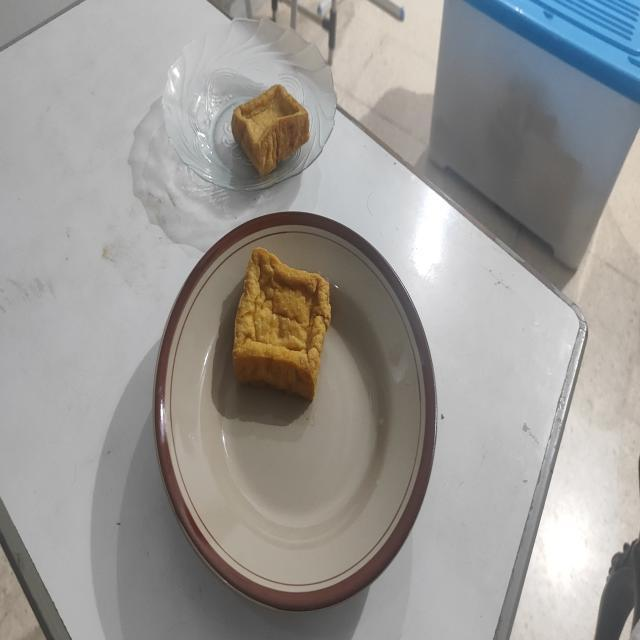tahu_goreng: (232, 248, 330, 402), (232, 85, 310, 176)
